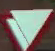Give way: (0, 3, 50, 50)
